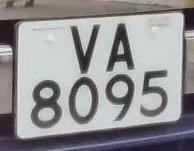0: (66, 73, 104, 131)
5: (137, 65, 173, 120)
8: (26, 69, 67, 135)
9: (101, 67, 141, 129)
A: (101, 17, 141, 75)
V: (64, 21, 104, 77)
